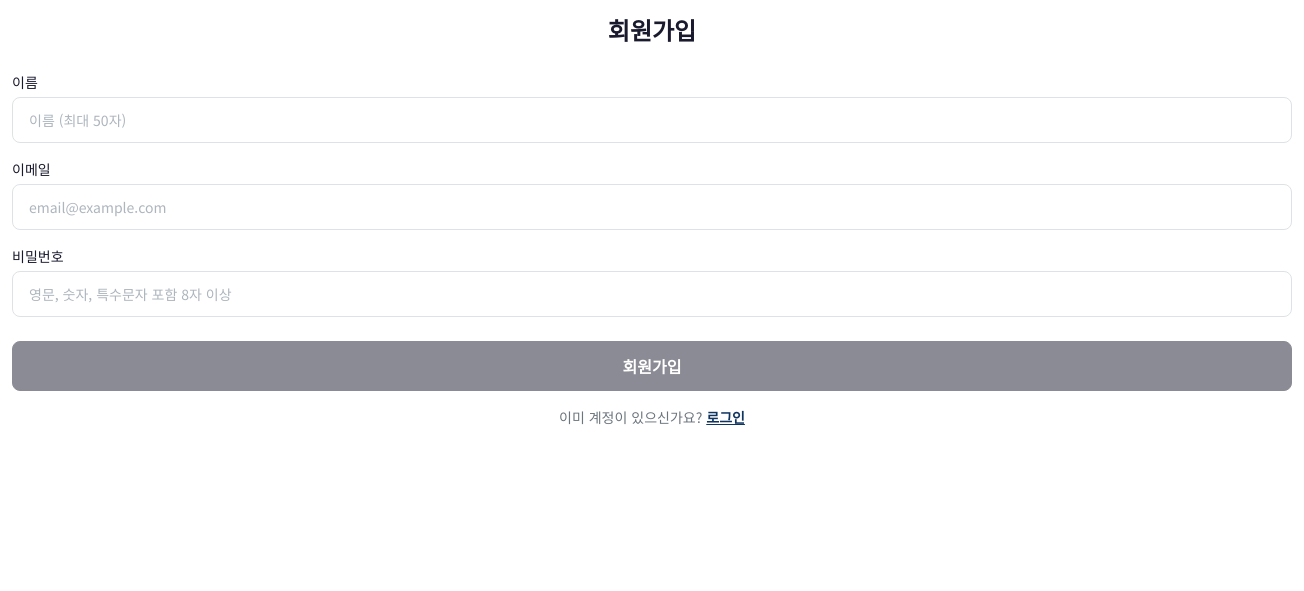
SignupForm › EMAIL_ALREADY_EXISTS 에러 시 에러 메시지를 표시한다
Type "Tester" into the field labelled "이름" at (652, 120), box x1=12 y1=97 x2=1292 y2=143
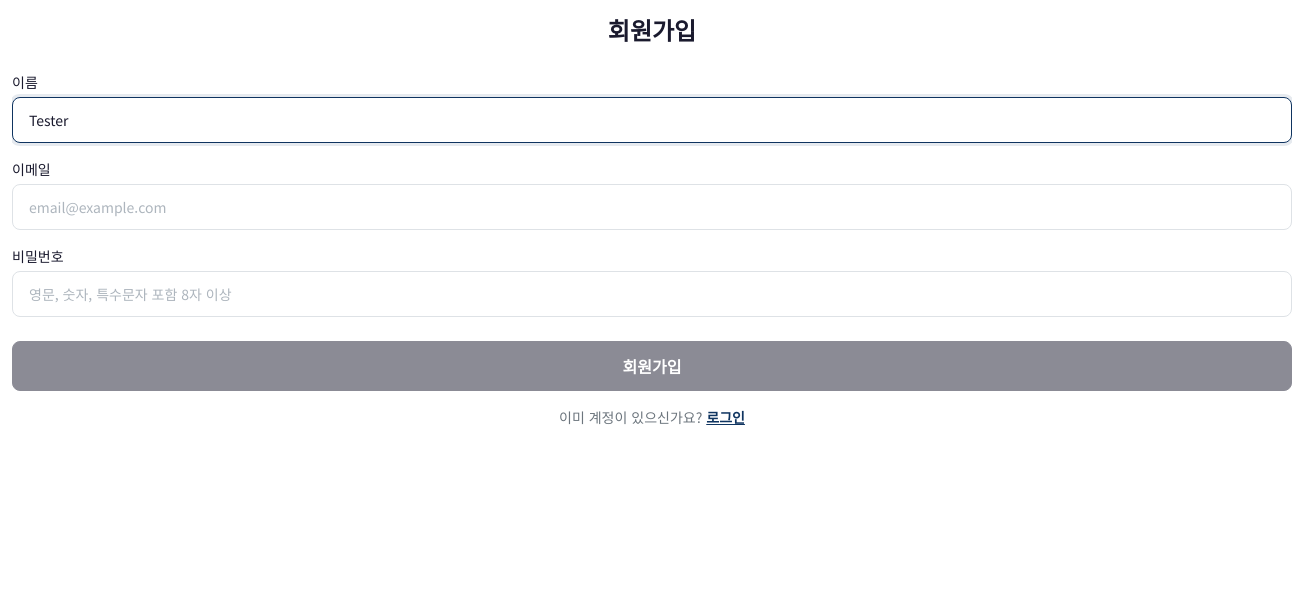
Type "test@test.com" into the field labelled "이메일" at (652, 207), box x1=12 y1=184 x2=1292 y2=230
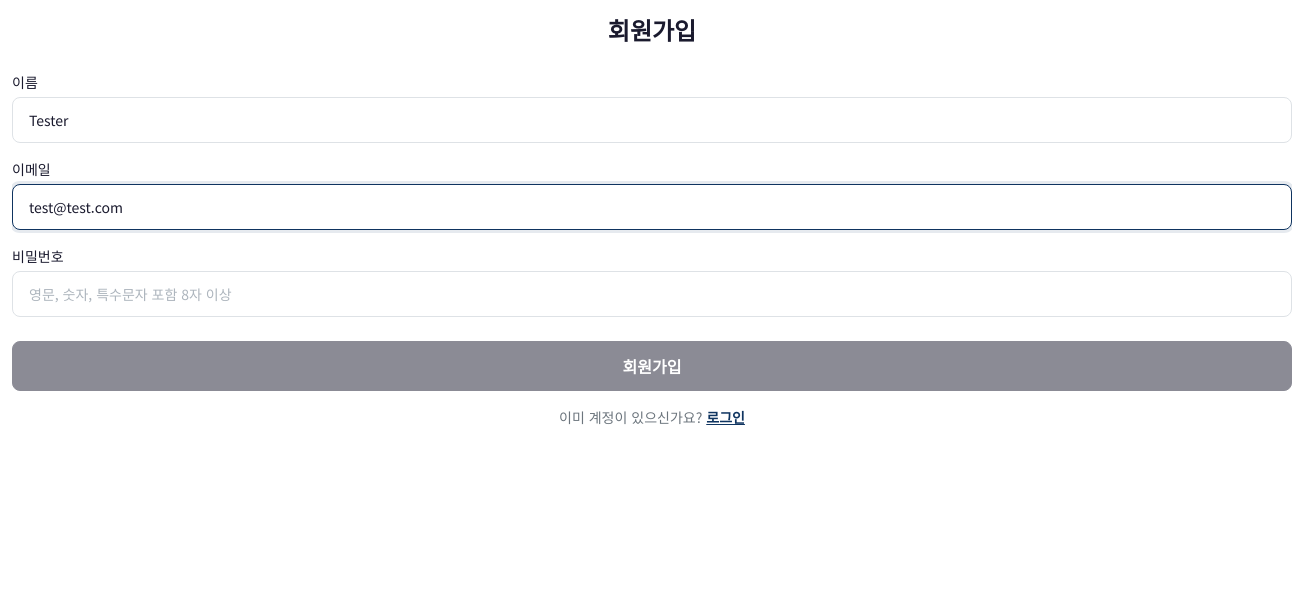
Type "Password123!" into the password field labelled "비밀번호" at (652, 294), box x1=12 y1=271 x2=1292 y2=317
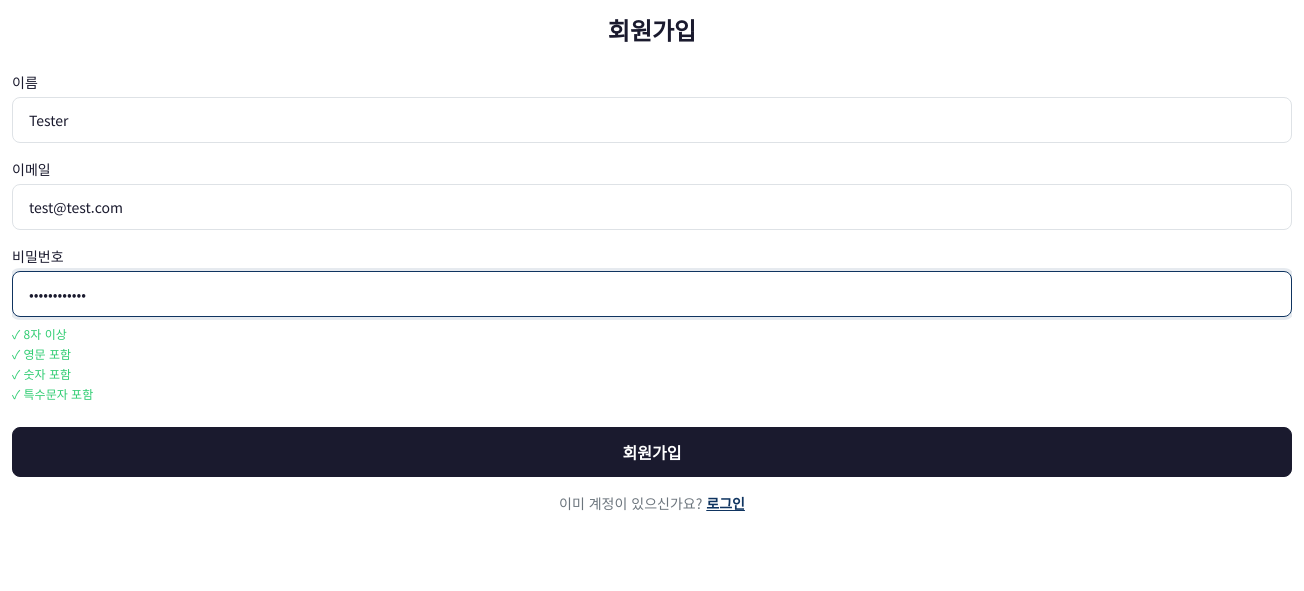
Click the button "회원가입" at (652, 452), box x1=12 y1=427 x2=1292 y2=477
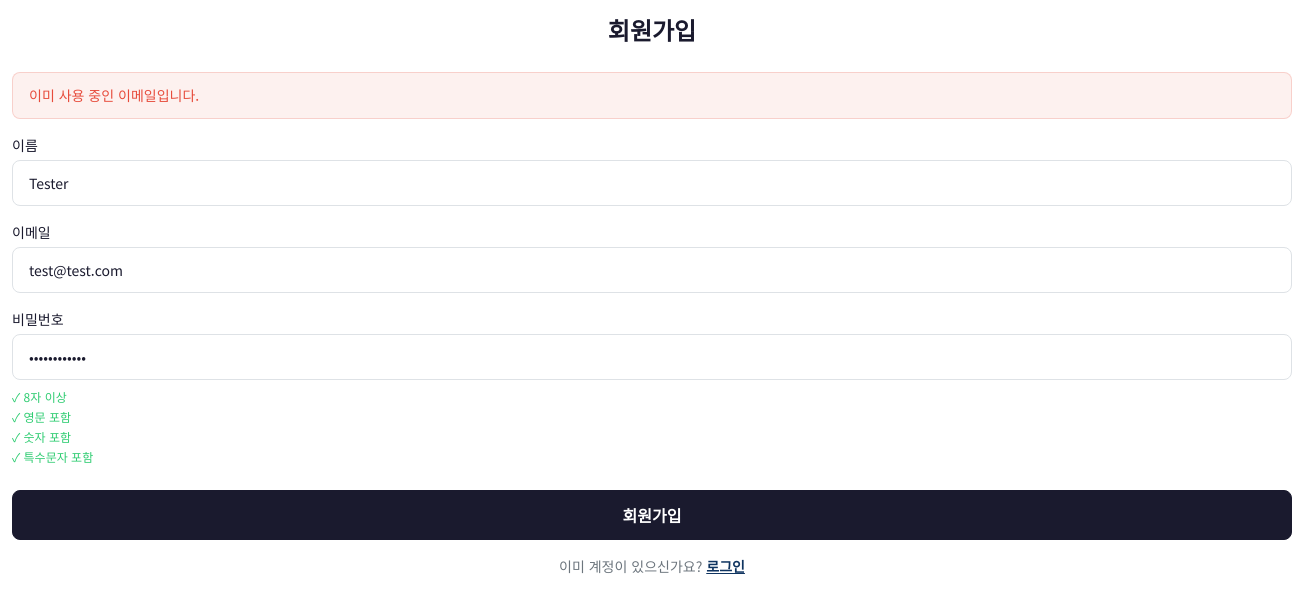
Result: the message reads "이미 사용 중인 이메일입니다." at x1=29 y1=85 x2=199 y2=105
